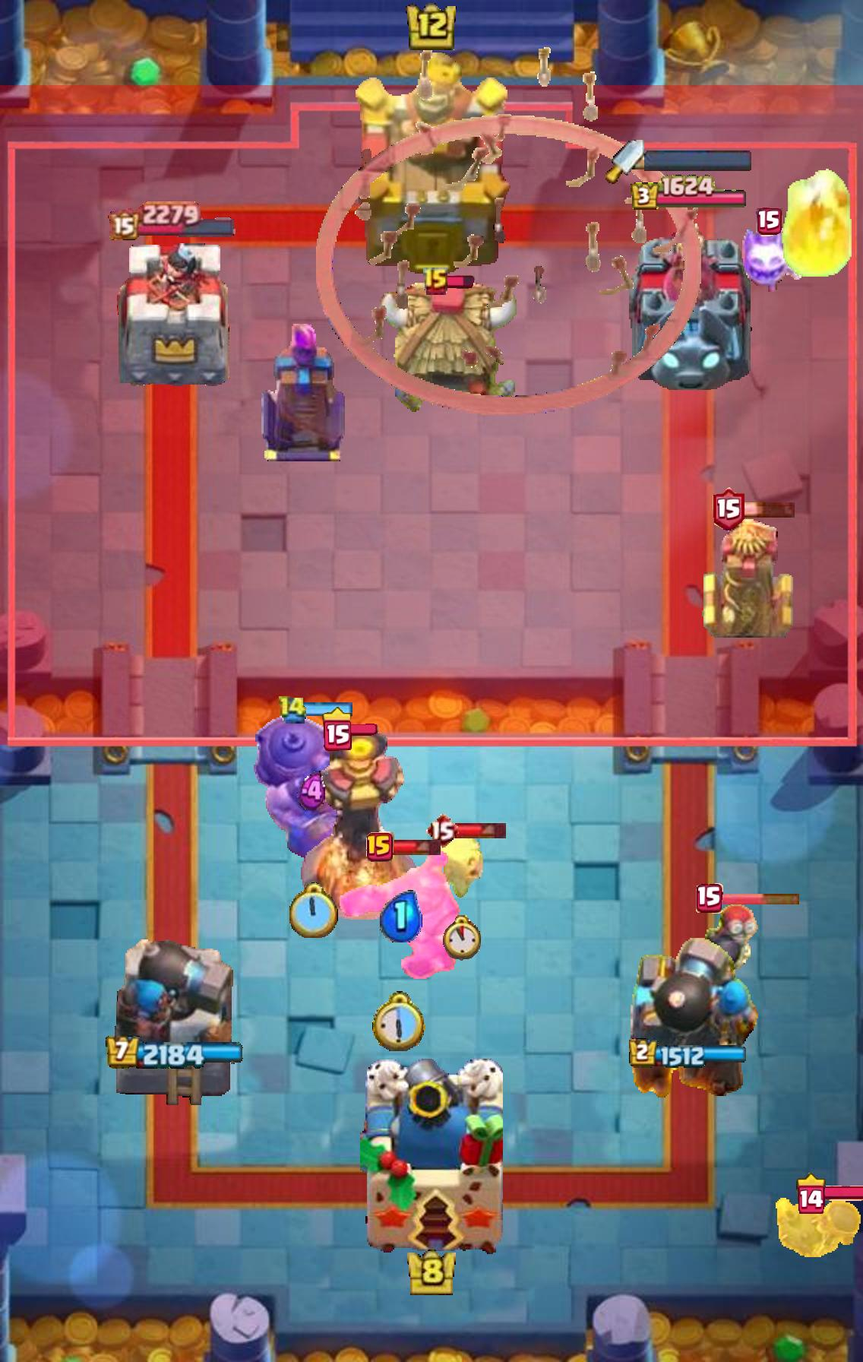bar: (719, 892, 801, 905), (741, 500, 797, 518), (455, 821, 508, 839), (390, 838, 443, 856), (822, 1186, 863, 1201), (446, 275, 475, 289), (348, 723, 378, 736)
bar-level: (321, 707, 352, 752), (713, 487, 744, 531), (425, 812, 459, 848), (797, 1173, 826, 1214), (366, 831, 394, 862), (422, 267, 450, 297), (696, 883, 723, 914), (756, 207, 782, 236)
